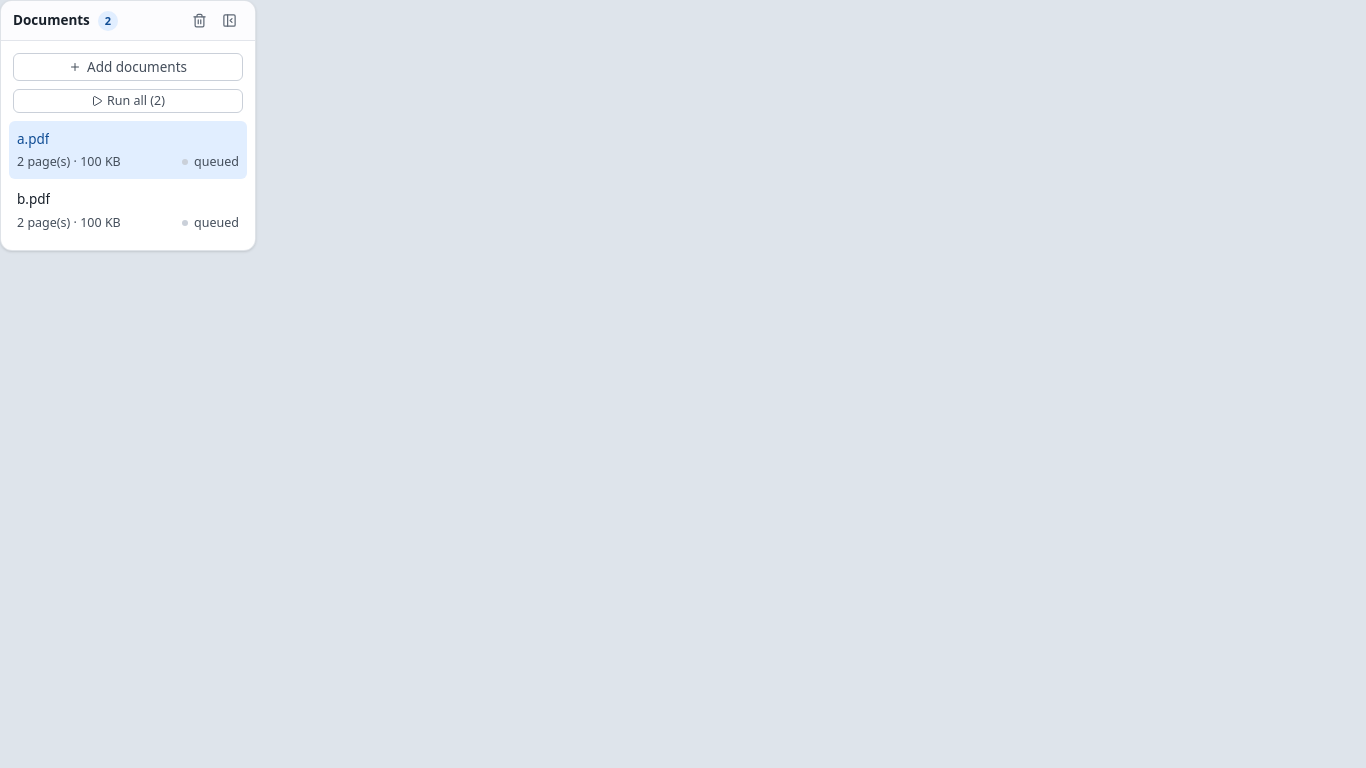
QueueRail clear-all guard › cancelling closes the popover and leaves the queue intact
Click the button named "delete all" at point(199, 20), box x1=185 y1=6 x2=213 y2=34
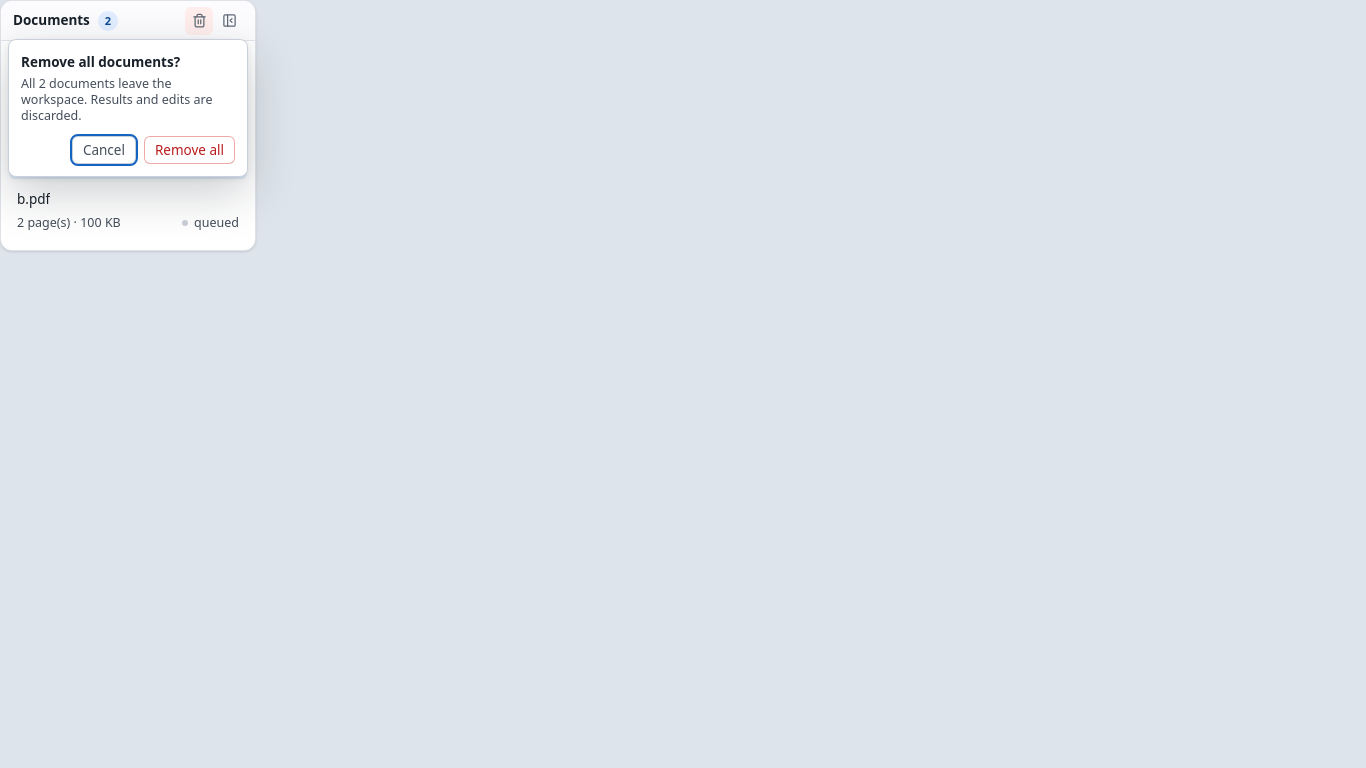
Click the button "Cancel" at point(104, 150), box x1=72 y1=136 x2=136 y2=164
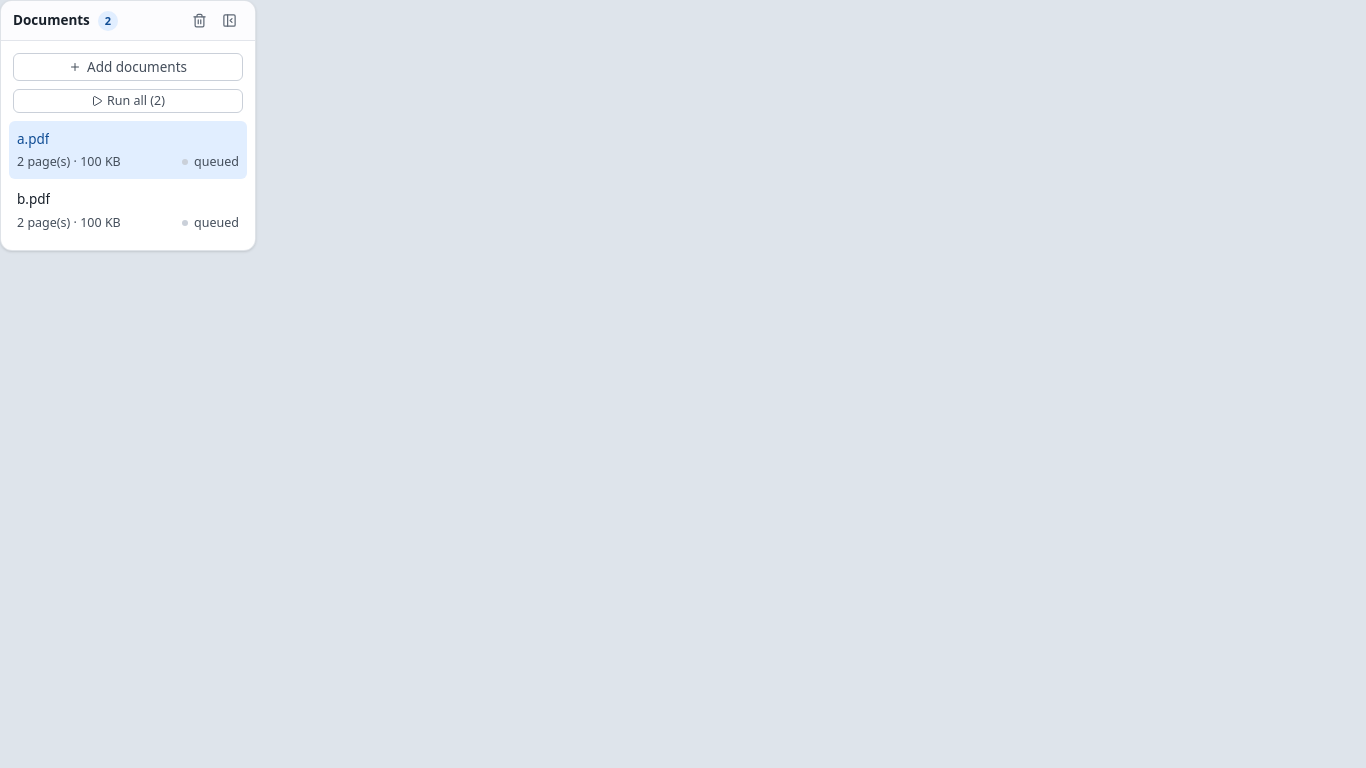
Result: the dialog is gone
